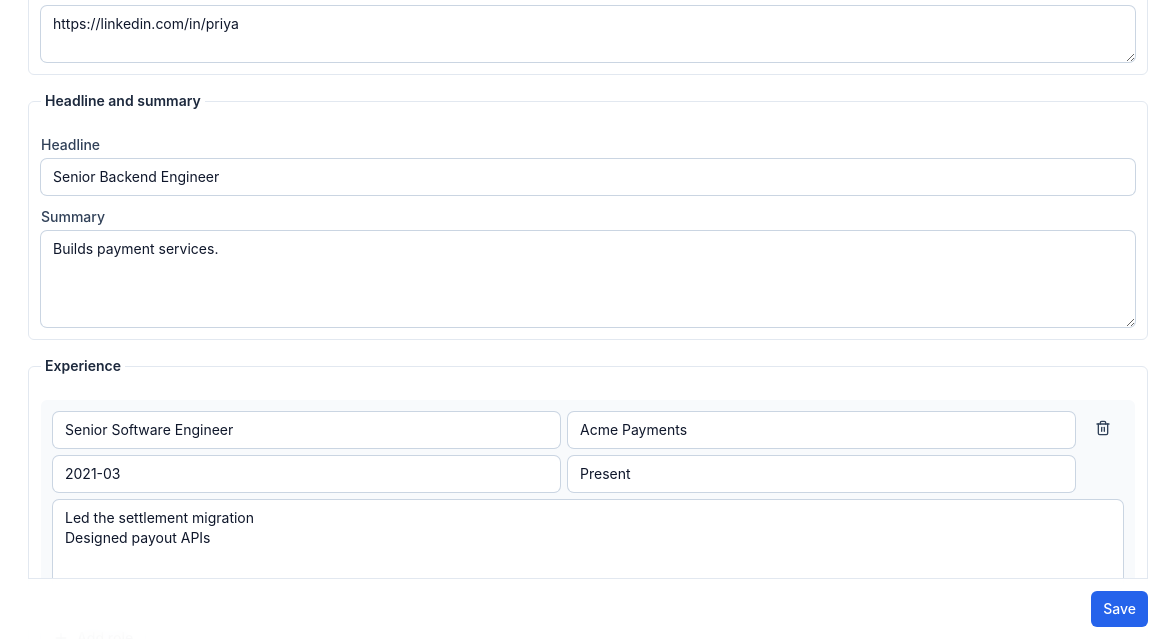
ResumeReviewPage › saves corrections as a structured document
(page scrolled)
Replace the text in the text box labelled "Summary" with "Backend engineer for payments.". click: (588, 279)
box: [41,231,1135,327]
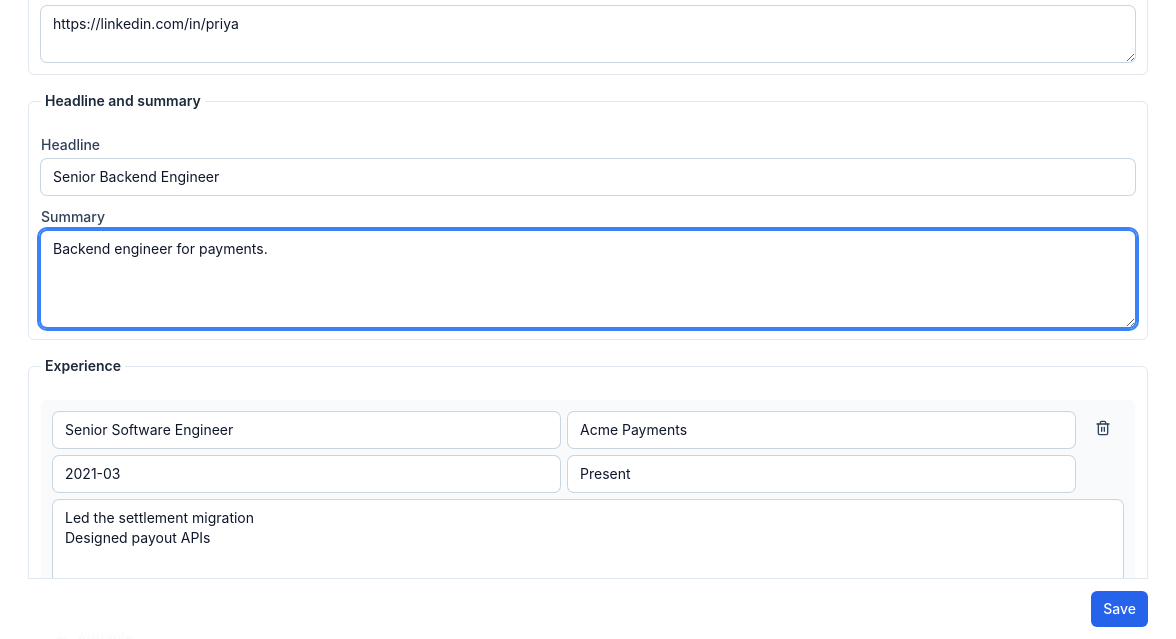
Click the button "Save". click: (1120, 609)
box: [1091,591,1148,627]
(page scrolled)
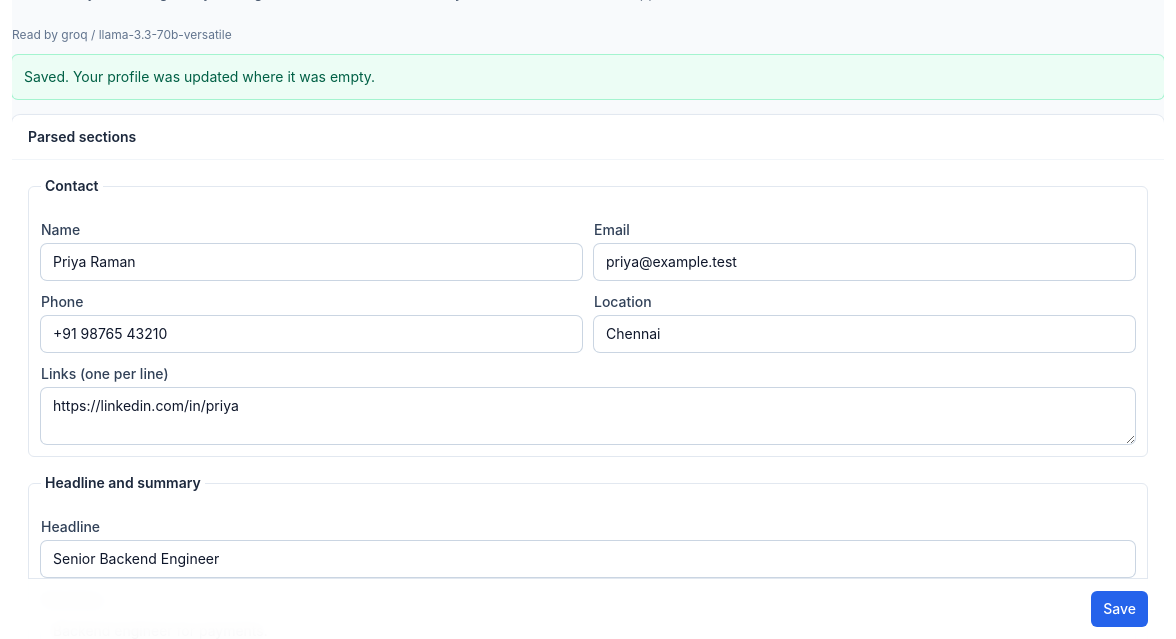
Expected: the text "Saved. Your profile was updated where it was empty." is shown, [24,68,375,85]
